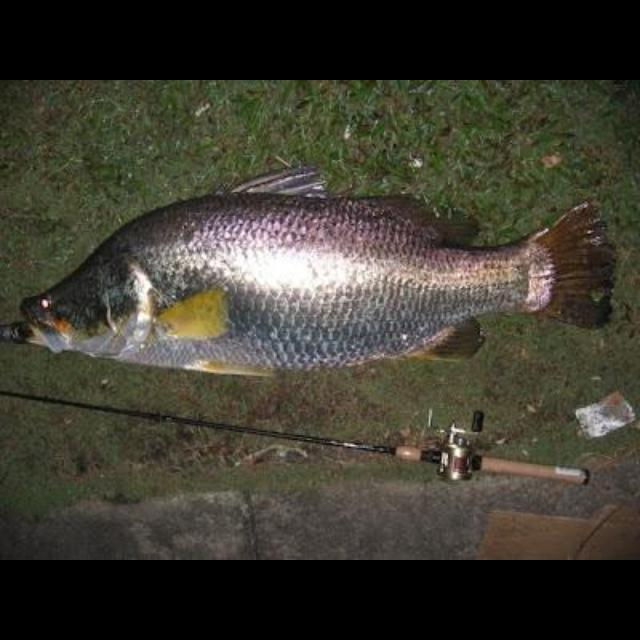Seabass: (13, 162, 617, 378)
